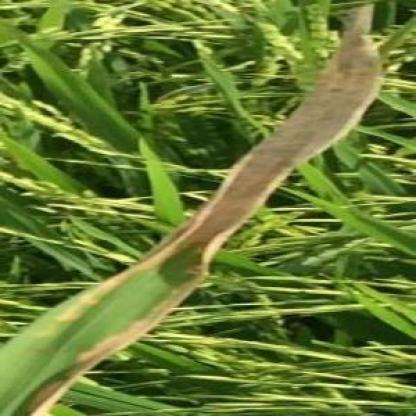Blight: (1, 26, 384, 416)
